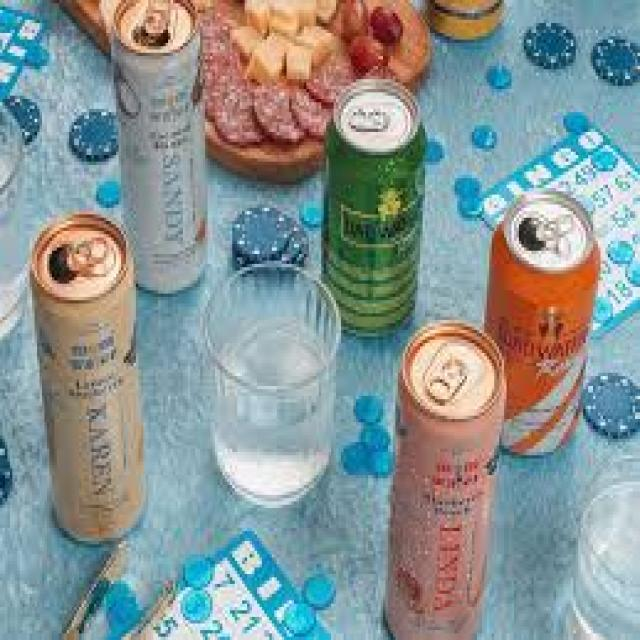Cans: (27, 208, 153, 534), (109, 3, 220, 290), (395, 333, 497, 640), (316, 69, 428, 340), (487, 188, 598, 459)
